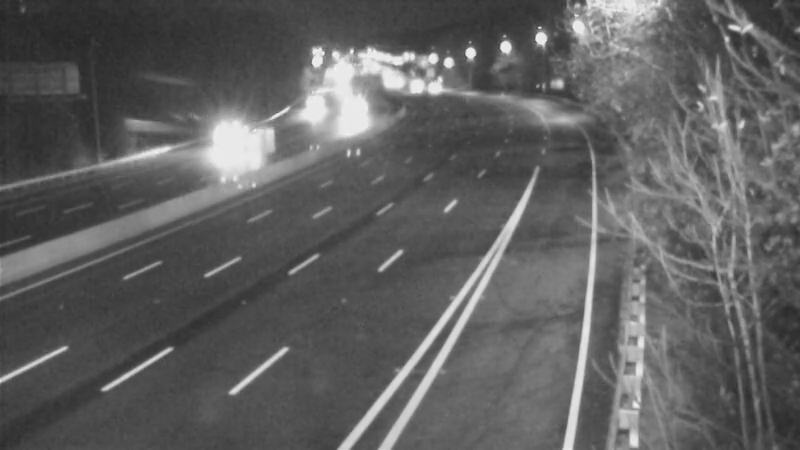vehicle: (207, 121, 257, 171), (336, 89, 386, 139), (292, 87, 342, 137)
